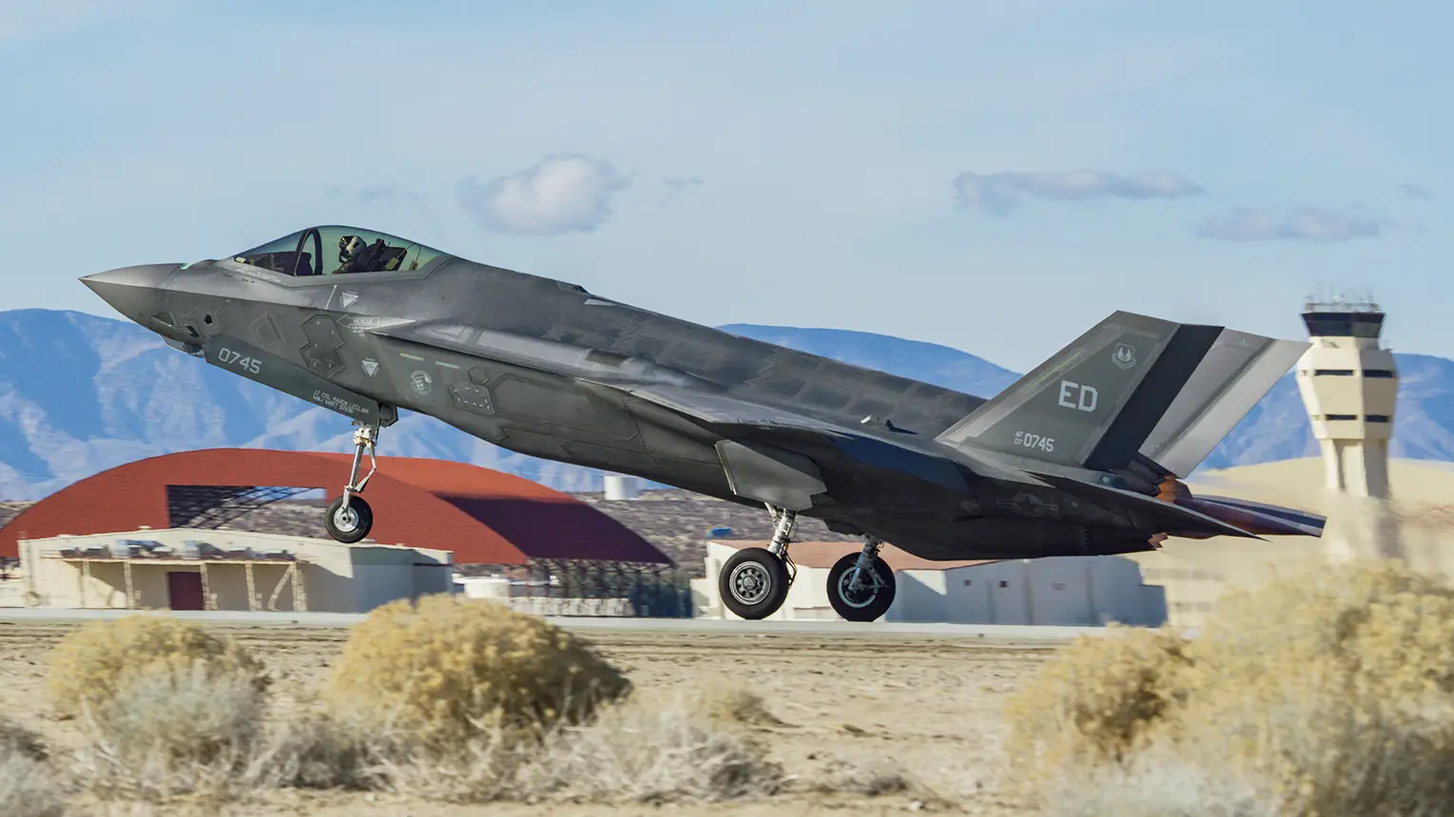F35: (71, 216, 1328, 630)
